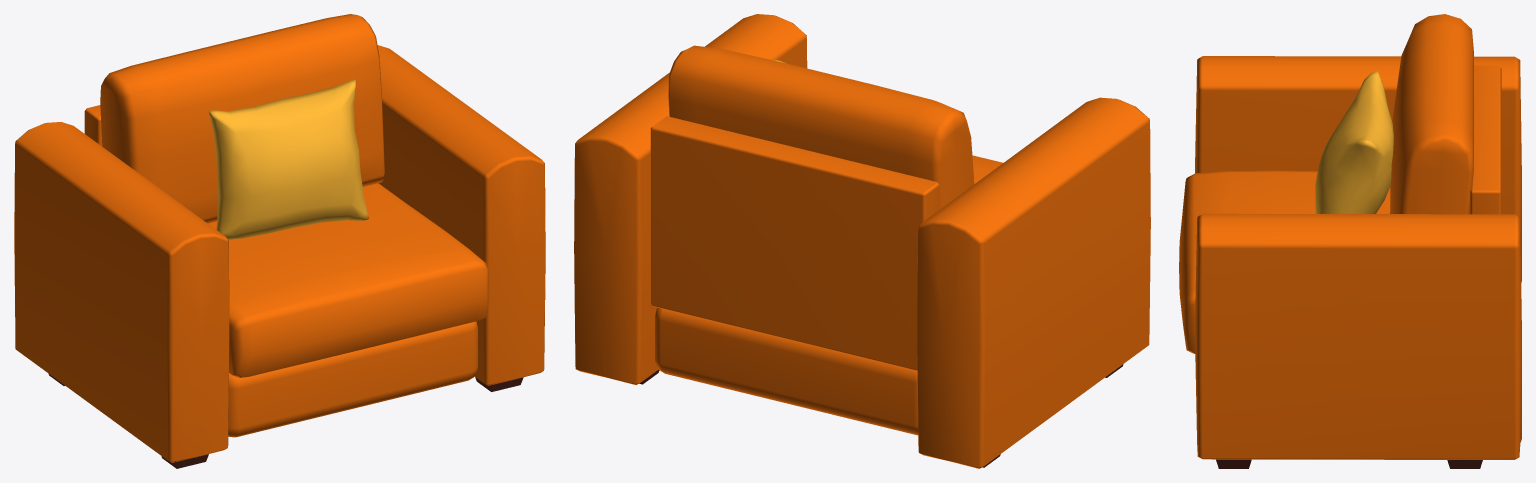
The model's file is livingroom_chair.fbx.
3 renders of one model, left to right at view 1: azimuth 30°, elevation 25°; view 2: azimuth 150°, elevation 25°; view 3: azimuth 270°, elevation 25°, orthographic. The views are drawn at different scales.
Visible parts, largest first — view 1: chair_02; view 2: chair_02; view 3: chair_02.
Boxes of the visible parts, box(x1,y1,x2,y2) form: chair_02: box(14, 14, 545, 468); chair_02: box(574, 14, 1150, 468); chair_02: box(1179, 14, 1521, 468).
Bounding box in the file's own units: 1.67 × 1.28 × 1.28.
